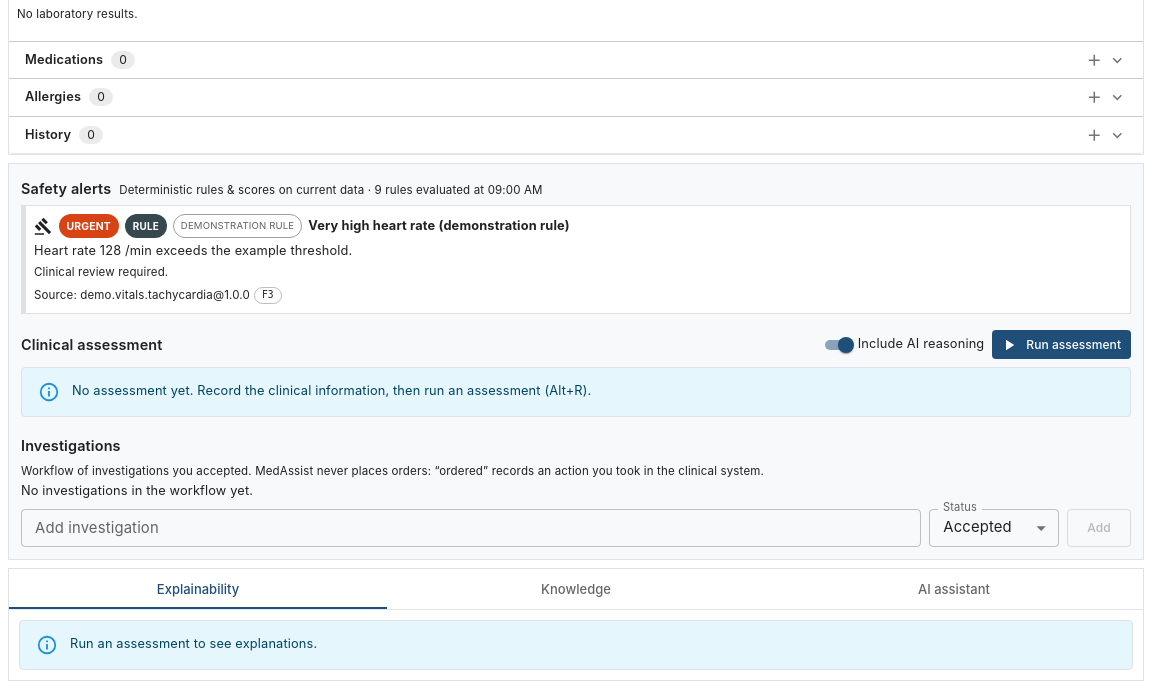
Test: EncounterWorkstation › keeps the workstation usable and non-alarming when the AI assistant is unavailable
(page scrolled)
Click the tab "AI assistant" at (954, 589), box 765,569 -> 1143,609
(page scrolled)
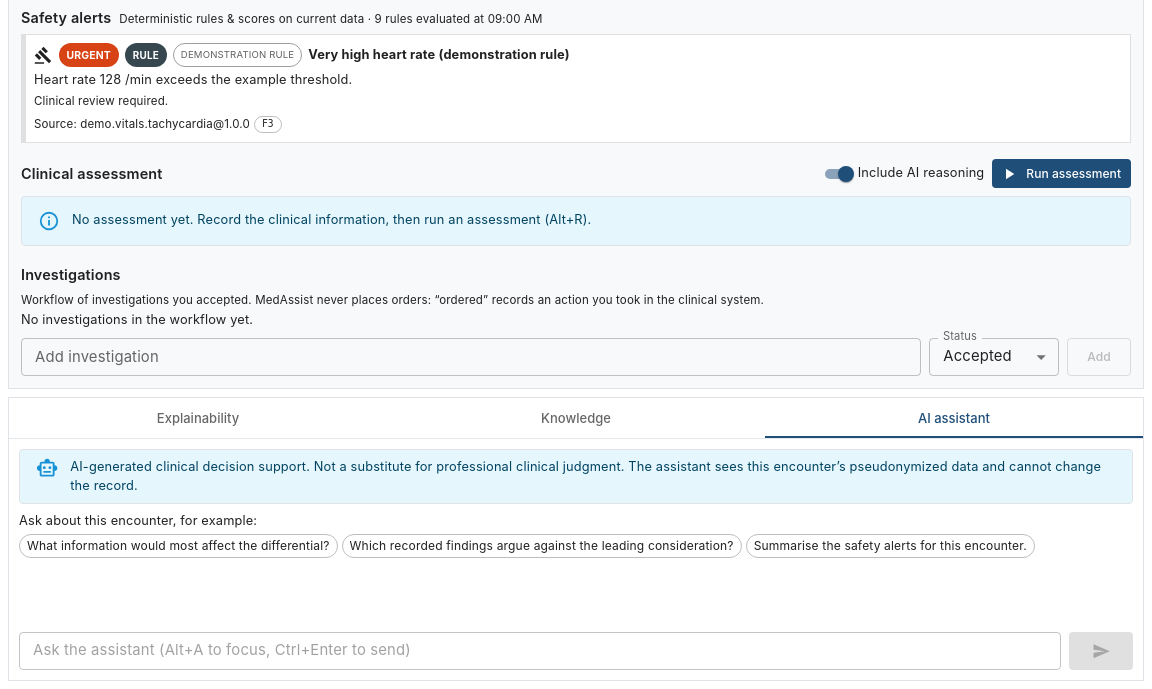
Type "What information would most affect the differential?" into the text box named "Question for the AI assistant" at (540, 651), box 33,640 -> 1047,661
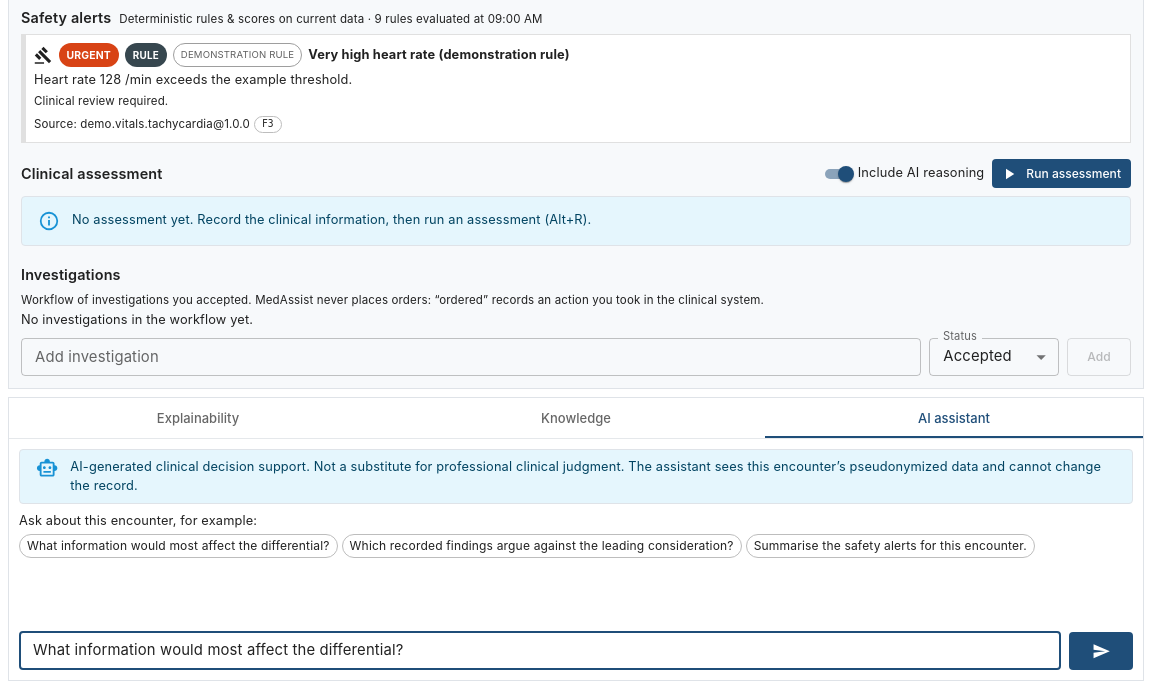
Click the button named "Send question" at (1101, 651), box 1069,632 -> 1133,670
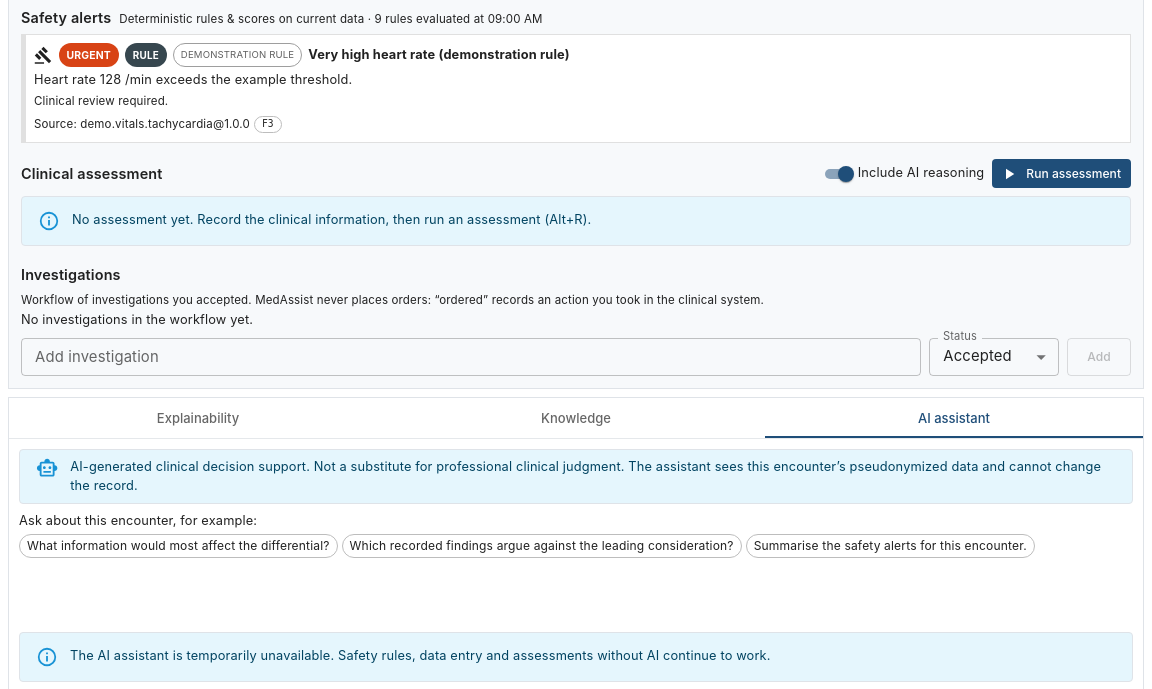
Expected: the message named "Deterministic urgent alert" is shown, 21,34 -> 1131,143
Expected: the text "The AI assistant is temporarily unavailable. Safety rules, data entry" is shown, 70,648 -> 771,663
